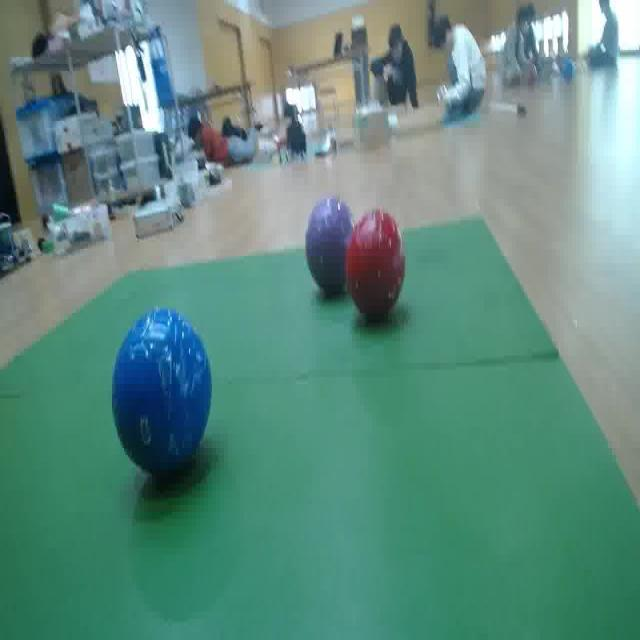blue_ball: (107, 304, 212, 476)
purple_ball: (305, 197, 360, 305)
red_ball: (347, 209, 408, 319)
